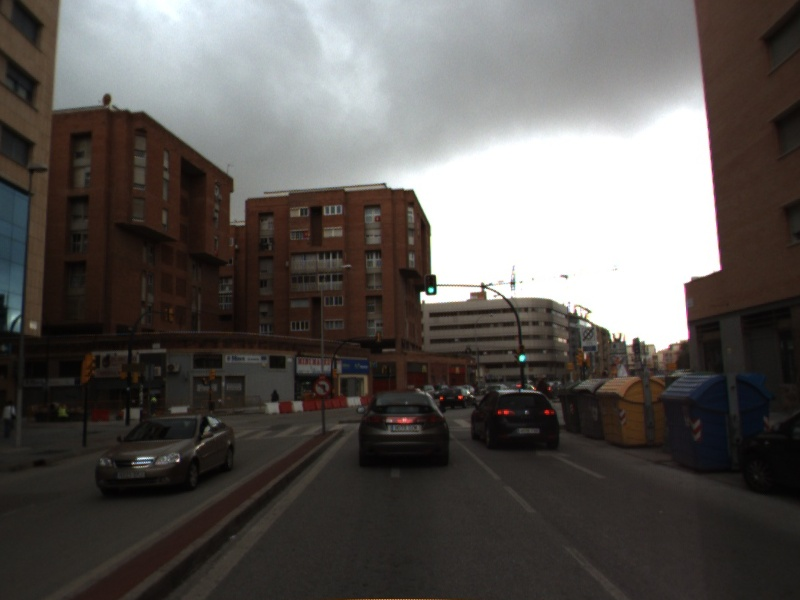STRAIGHT: (534, 447, 609, 481)
